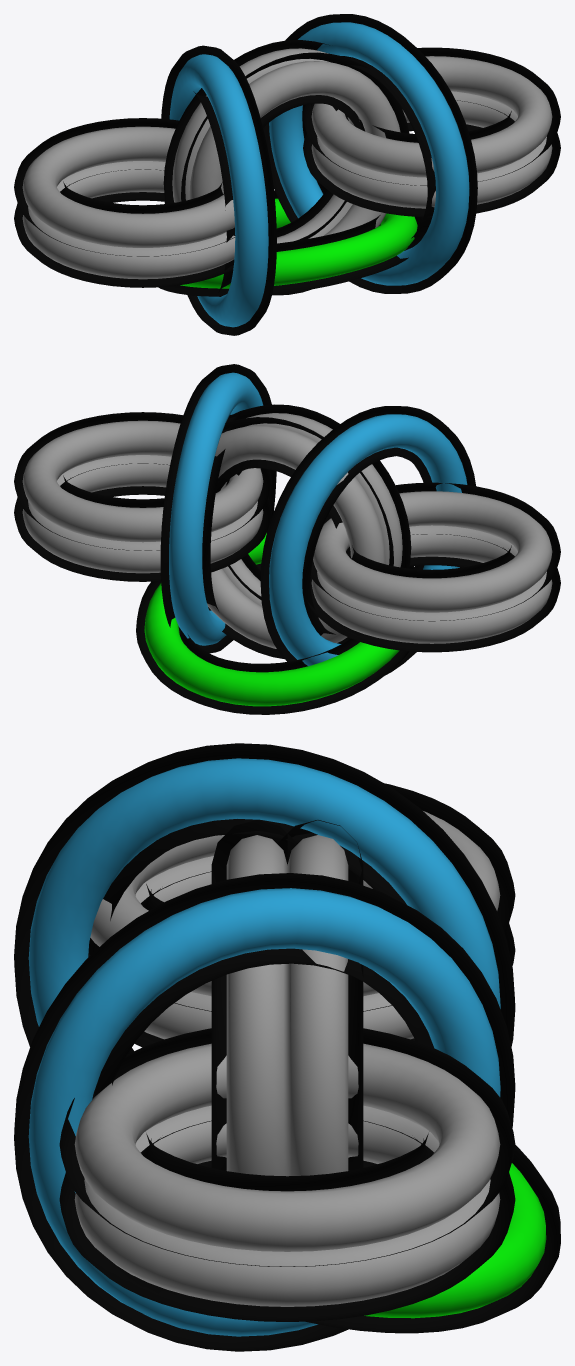
The model's file is bweg_step_05.glb.
3 views of the same model, one above another, from view 1: azimuth 30°, elevation 25°; view 2: azimuth 150°, elevation 25°; view 3: azimuth 270°, elevation 25° (orthographic). The views are drawn at different scales.
Parts seen in each view (by area): view 1: Torus.011, Torus.010, Torus.006, Torus.009, Torus.007, Torus.001, Torus.008, Torus.012, Torus; view 2: Torus.010, Torus.006, Torus.009, Torus.011, Torus.012, Torus.007, Torus.008, Torus, Torus.001; view 3: Torus.011, Torus.009, Torus.010, Torus.008, Torus.001, Torus, Torus.012, Torus.006, Torus.007.
Part boxes in pixels (bbox=[...]): Torus.011: bbox=[263, 14, 477, 293]; Torus.010: bbox=[161, 45, 276, 335]; Torus.006: bbox=[14, 118, 234, 256]; Torus.009: bbox=[303, 47, 560, 185]; Torus.007: bbox=[14, 161, 235, 287]; Torus.001: bbox=[181, 52, 409, 295]; Torus.008: bbox=[303, 91, 560, 217]; Torus.012: bbox=[158, 190, 423, 296]; Torus: bbox=[163, 40, 360, 243]; Torus.010: bbox=[260, 406, 475, 675]; Torus.006: bbox=[310, 482, 560, 621]; Torus.009: bbox=[14, 412, 271, 550]; Torus.011: bbox=[160, 364, 276, 653]; Torus.012: bbox=[136, 518, 415, 714]; Torus.007: bbox=[307, 525, 560, 652]; Torus.008: bbox=[14, 455, 271, 581]; Torus: bbox=[207, 417, 393, 659]; Torus.001: bbox=[220, 404, 411, 606]; Torus.011: bbox=[14, 873, 515, 1351]; Torus.009: bbox=[59, 1028, 515, 1266]; Torus.010: bbox=[14, 743, 515, 1054]; Torus.008: bbox=[59, 1105, 515, 1321]; Torus.001: bbox=[211, 820, 296, 1176]; Torus: bbox=[278, 820, 363, 1176]; Torus.012: bbox=[306, 1145, 560, 1333]; Torus.006: bbox=[88, 783, 515, 1011]; Torus.007: bbox=[134, 856, 515, 1047].
Size of the model in its own units: 6.88 by 3.4 by 3.6.
